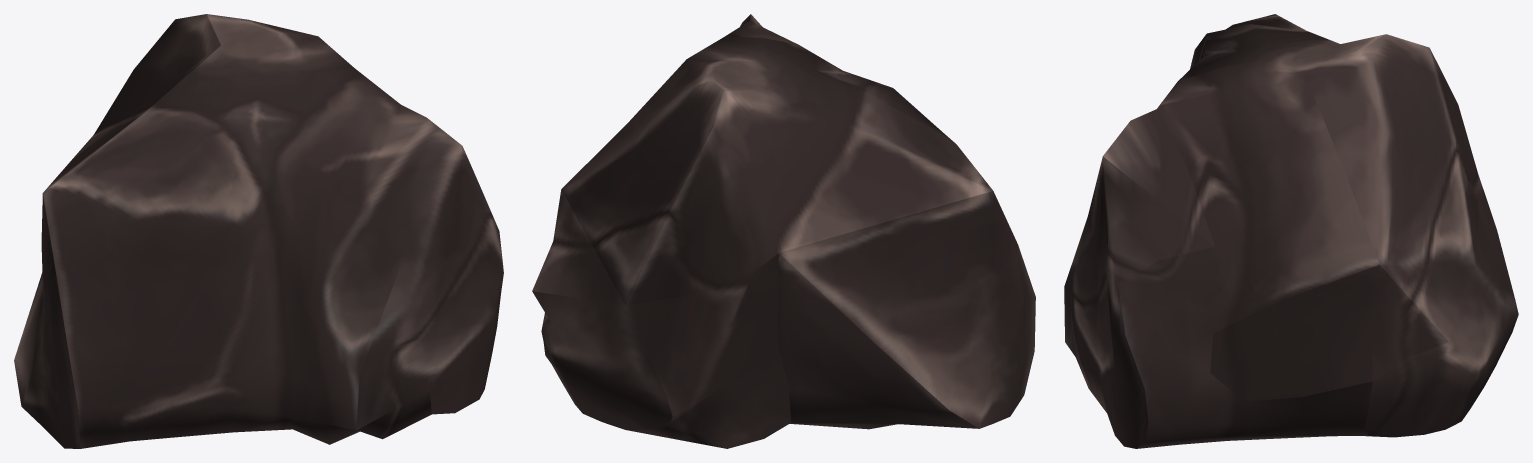
The model's file is rock_11.fbx.
The picture shows the model from 3 angles, left to right: view 1: azimuth 30°, elevation 25°; view 2: azimuth 150°, elevation 25°; view 3: azimuth 270°, elevation 25°; orthographic projection. The views are drawn at different scales.
Visible parts, largest first — view 1: rock_11; view 2: rock_11; view 3: rock_11.
Part boxes in pixels (box(x1,y1,x2,y2)): rock_11: box(14, 14, 503, 448); rock_11: box(532, 14, 1035, 448); rock_11: box(1064, 14, 1518, 448).
Bounding box in the file's own units: 4.41 × 3.49 × 4.17.
